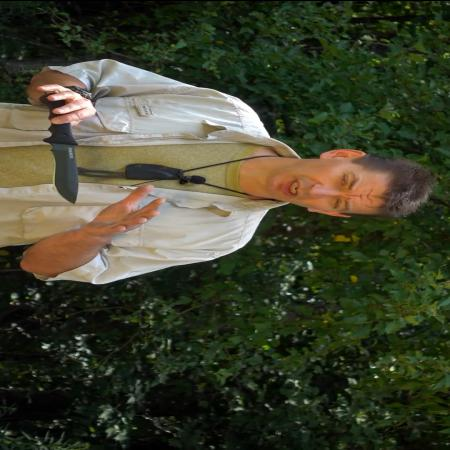long weapon: (29, 82, 98, 206)
